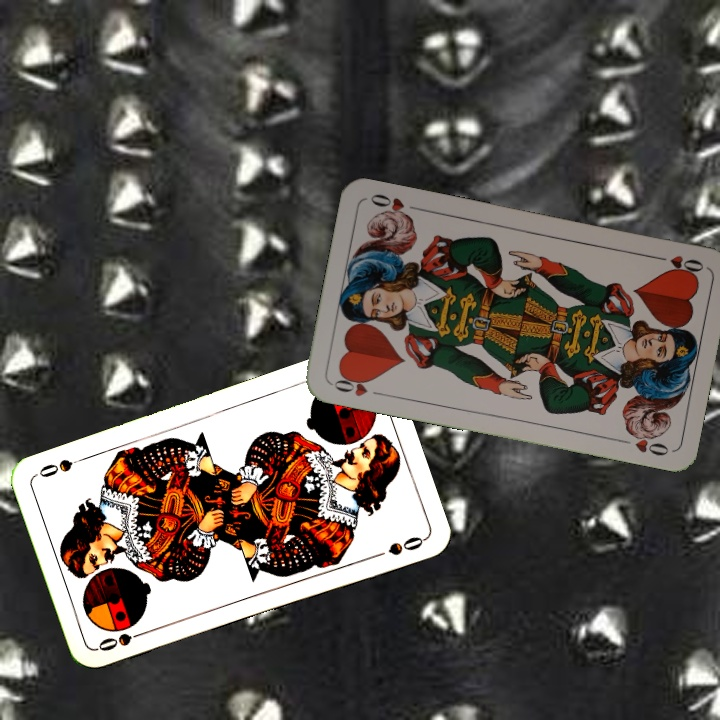HO: (328, 369, 387, 399), (649, 251, 707, 278)
SO: (94, 626, 152, 654)
